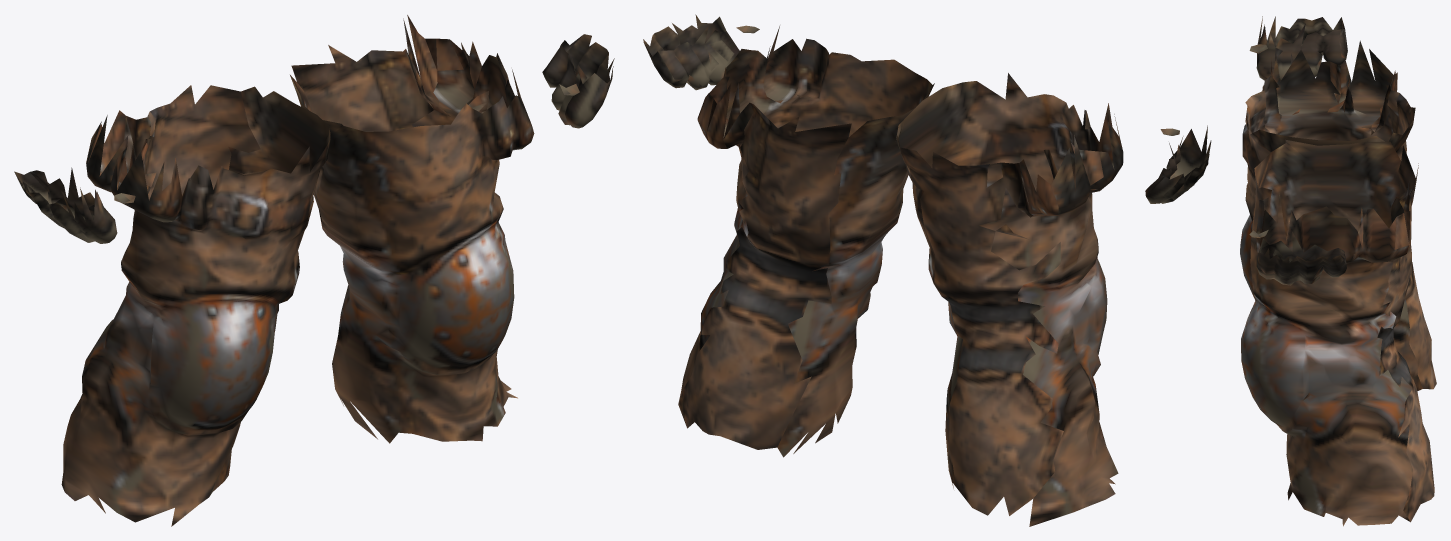
File: legs.glb
3 views of the same model, side by side, from view 1: azimuth 30°, elevation 25°; view 2: azimuth 150°, elevation 25°; view 3: azimuth 270°, elevation 25° (orthographic). The views are drawn at different scales.
Parts seen in each view (by area): view 1: Warden / legs / two-view proof; view 2: Warden / legs / two-view proof; view 3: Warden / legs / two-view proof.
Boxes of the visible parts, bbox=[...] form: Warden / legs / two-view proof: bbox=[14, 15, 614, 526]; Warden / legs / two-view proof: bbox=[643, 14, 1211, 526]; Warden / legs / two-view proof: bbox=[1240, 16, 1436, 526].
Size of the model in its own units: 0.9083 by 0.5788 by 0.3126.
Materials: 1 (1 with a texture image).
